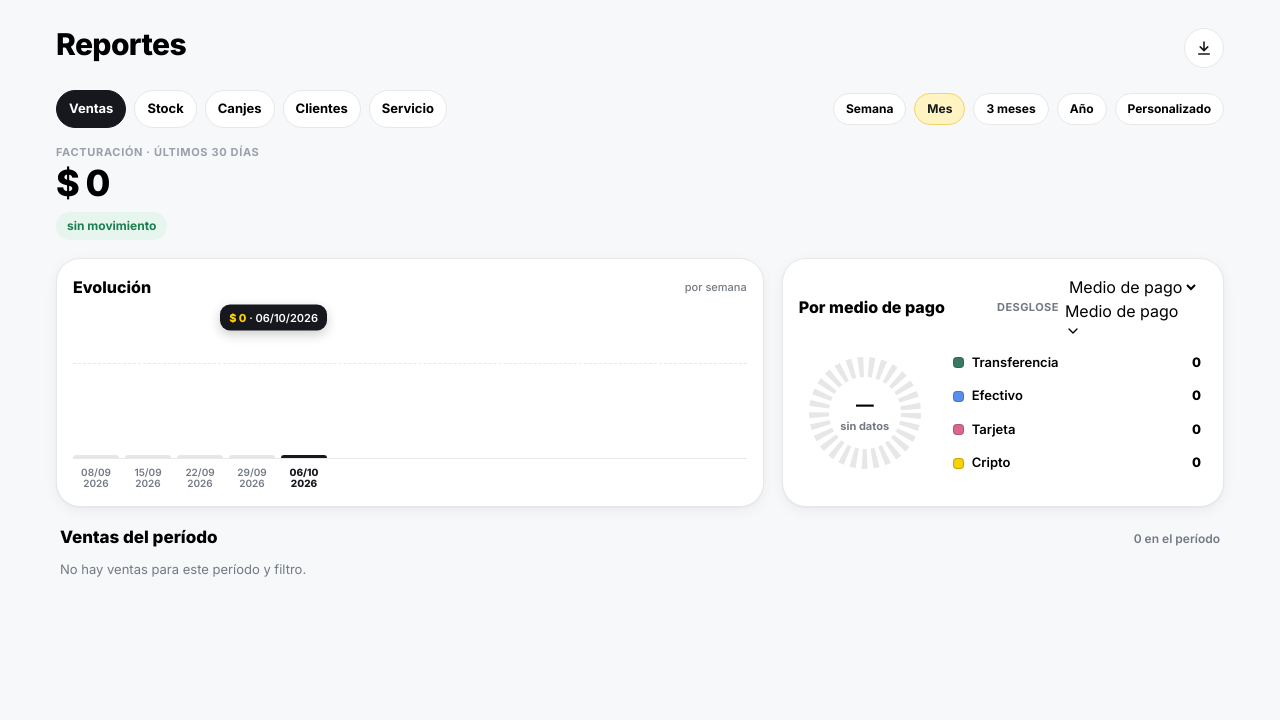
Test: Reports custom period › keeps the custom range inline on a wide screen
Click the button "Personalizado" at (1169, 109), box left=1114, top=93, right=1224, bottom=125
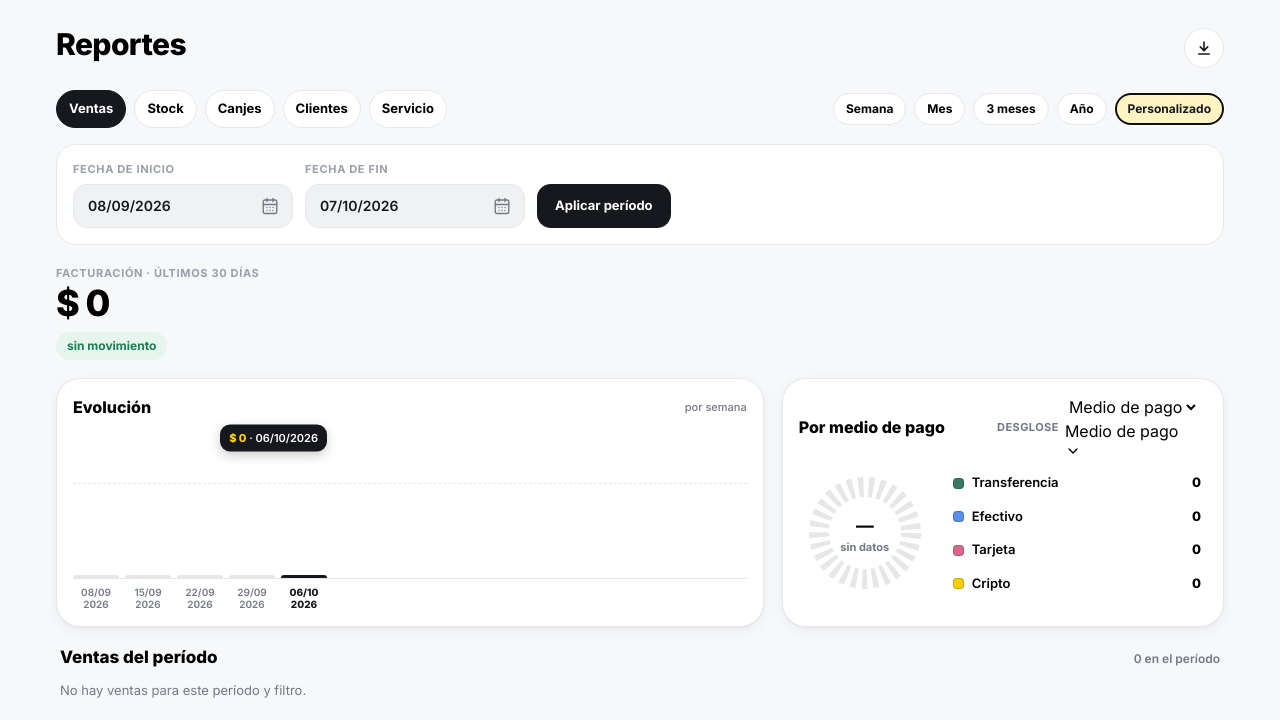
Now the field labelled "Fecha de inicio" is shown, box left=73, top=184, right=293, bottom=228
